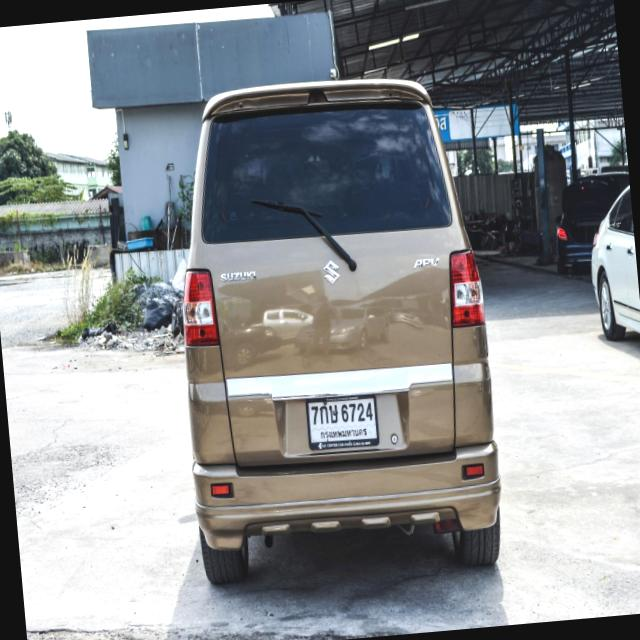license_plate: (304, 390, 382, 455)
